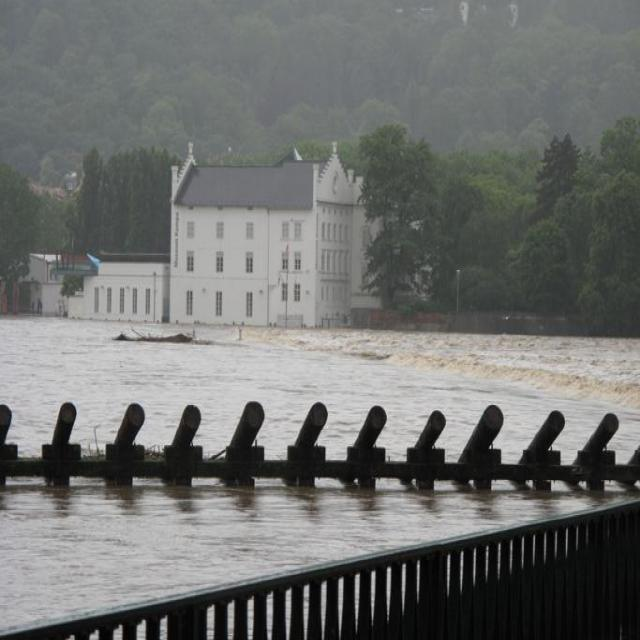flood: (3, 289, 640, 613)
